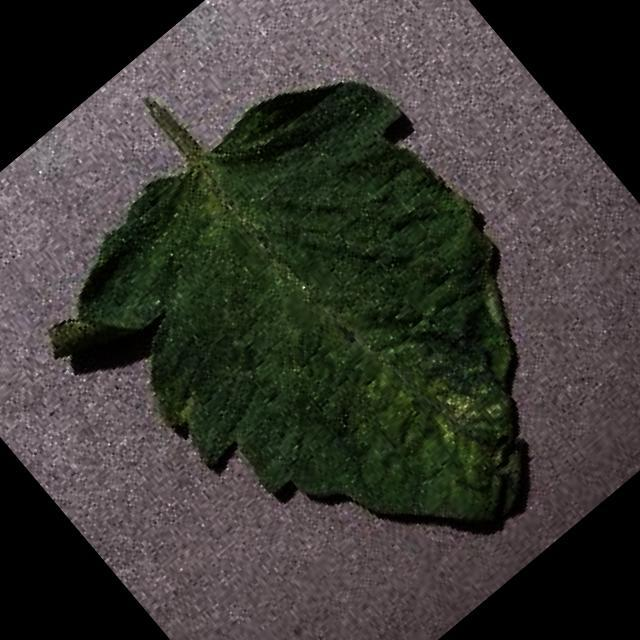Tomato spider mites leaf: (1, 20, 640, 640)
